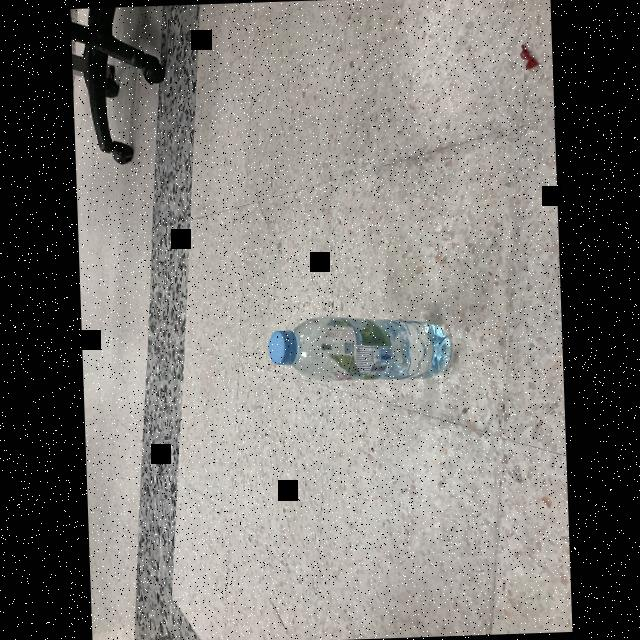plastic_bottle: (266, 312, 454, 386)
plastic_bottle_cap: (267, 328, 299, 366)
